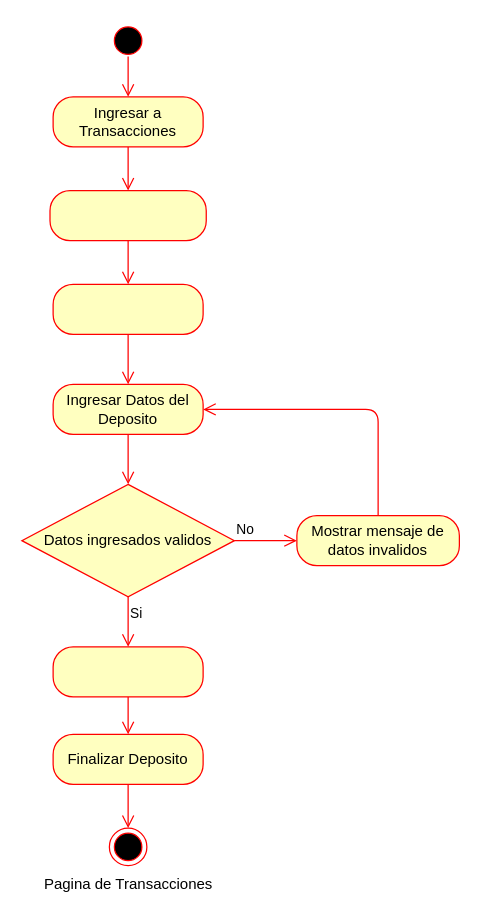
Some shapes in this 481 by 919 pixel diagram are drawn without their labels. The box of each missing label's shape, as (x1, y1, x2, y2) in pixels:
Realizar Deposito: (52, 646, 203, 697)
Seleccionar Deposito: (52, 283, 203, 334)
Seleccionar tipo de transaccion: (49, 189, 206, 241)
